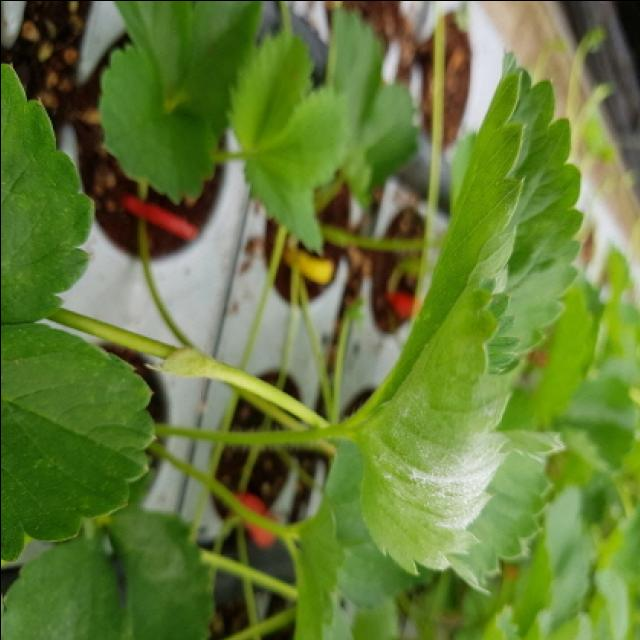Powdery Mildew Leaf: (347, 273, 521, 576)
